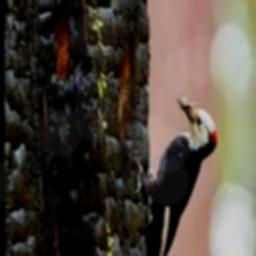Woodpecker: (132, 93, 215, 256)
